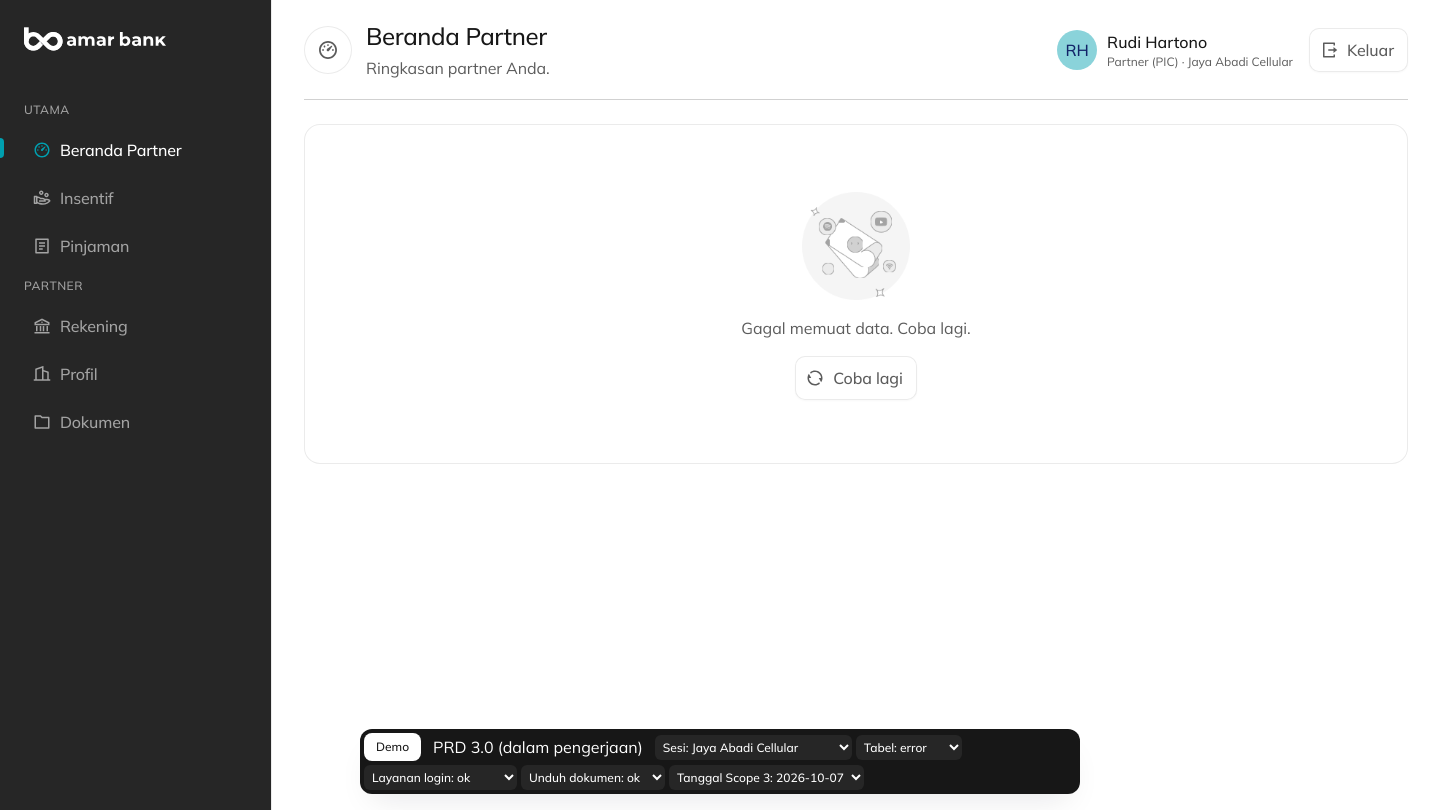
Test case: PDB-05 Beranda Partner (FR-PD-005) › loading lalu error → Coba lagi
Expected: the text "Ringkasan partner Anda." is shown, [366,56,550,80]
Expected: the text "Halo," is not shown
Click the button "Coba lagi". click: (856, 378)
box: [795,356,917,400]
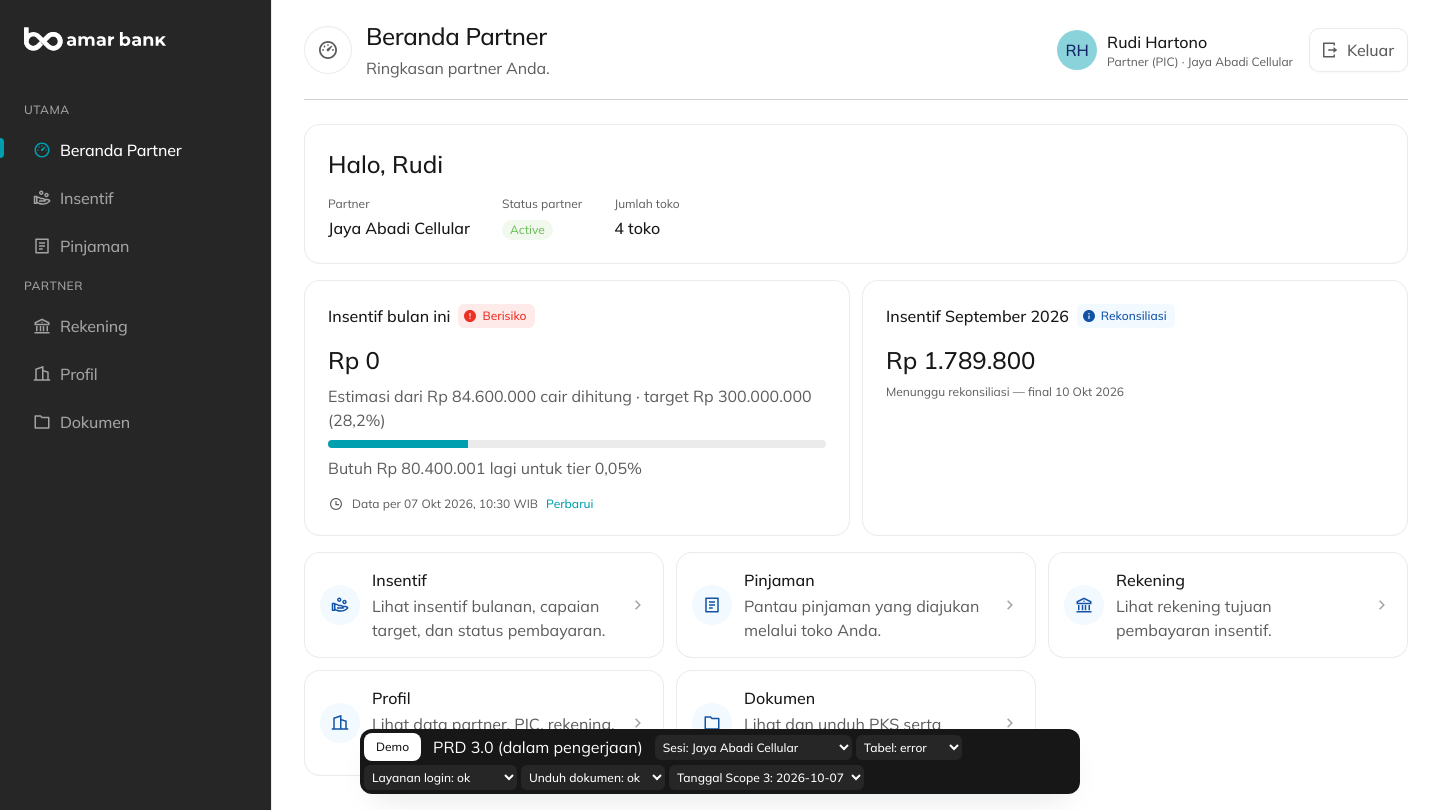
Now the heading "Halo, Rudi" is shown, box [328,149,443,179]
